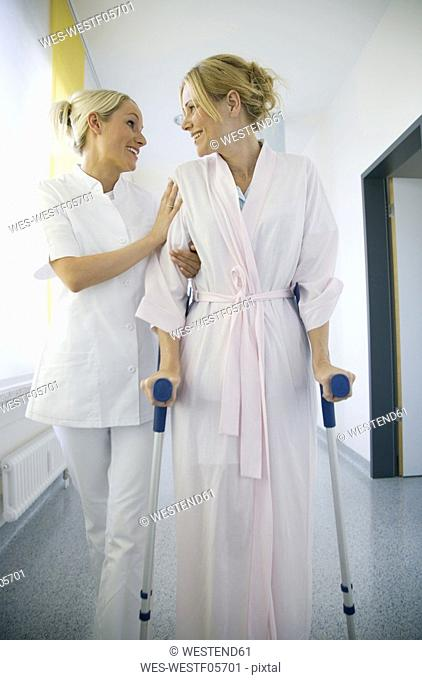crutches: (136, 53, 358, 640)
